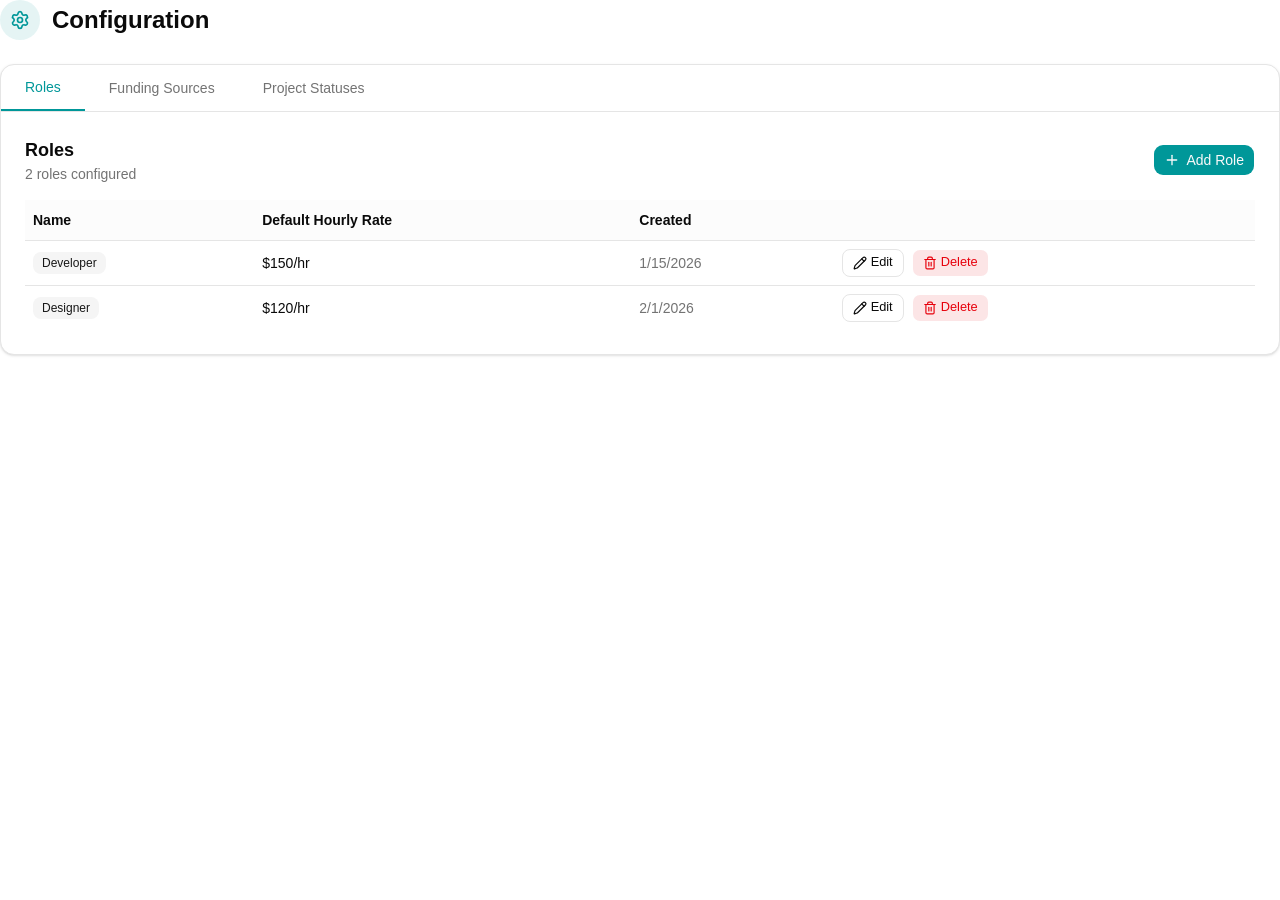
Test: ConfigurationPage › should open funding source creation form
Click the tab with test id "configuration-tab-funding-sources" at (162, 88), box left=85, top=65, right=239, bottom=111
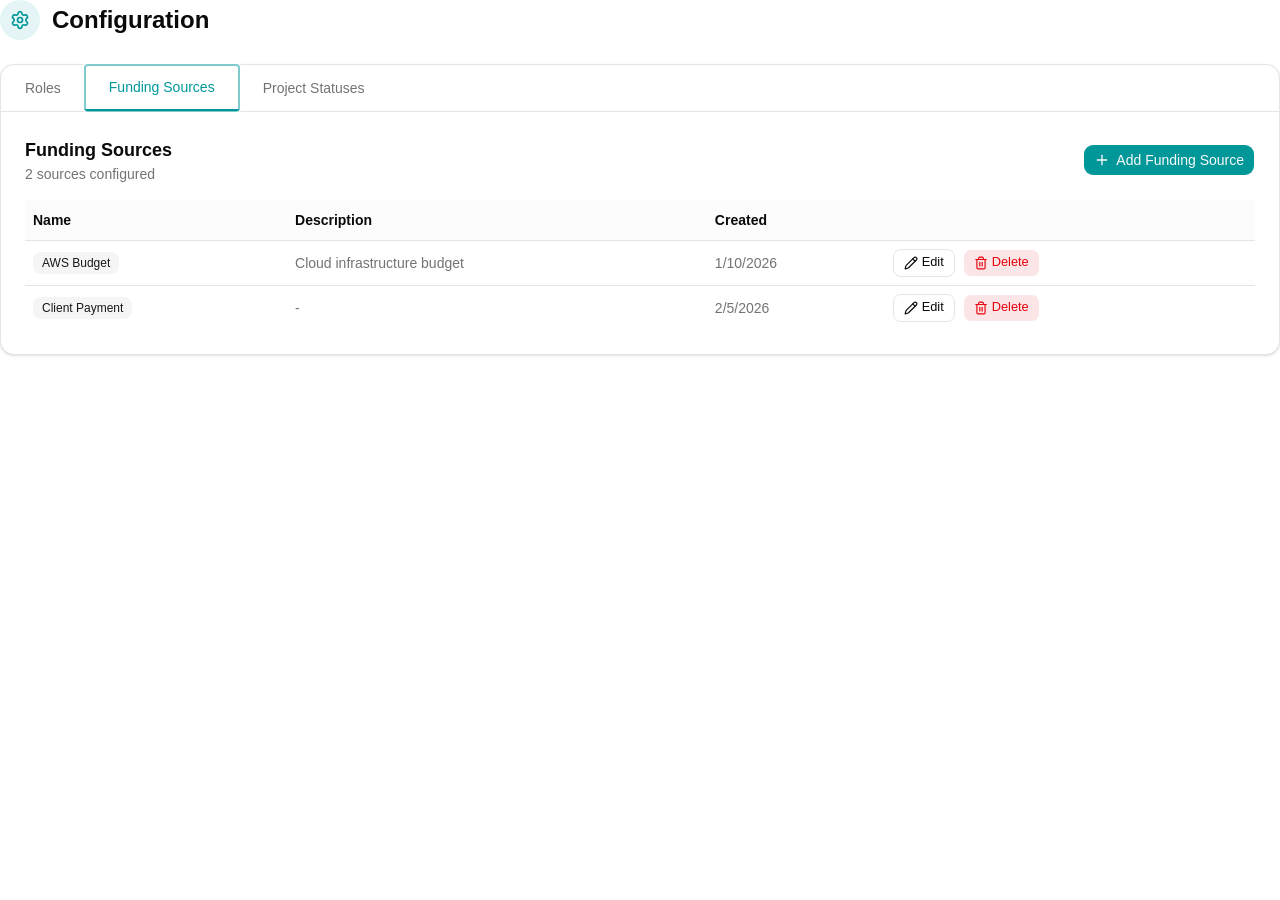
Expected: the button with test id "funding-source-create-button" is shown
Click the button with test id "funding-source-create-button" at (1169, 160), box left=1083, top=144, right=1255, bottom=176
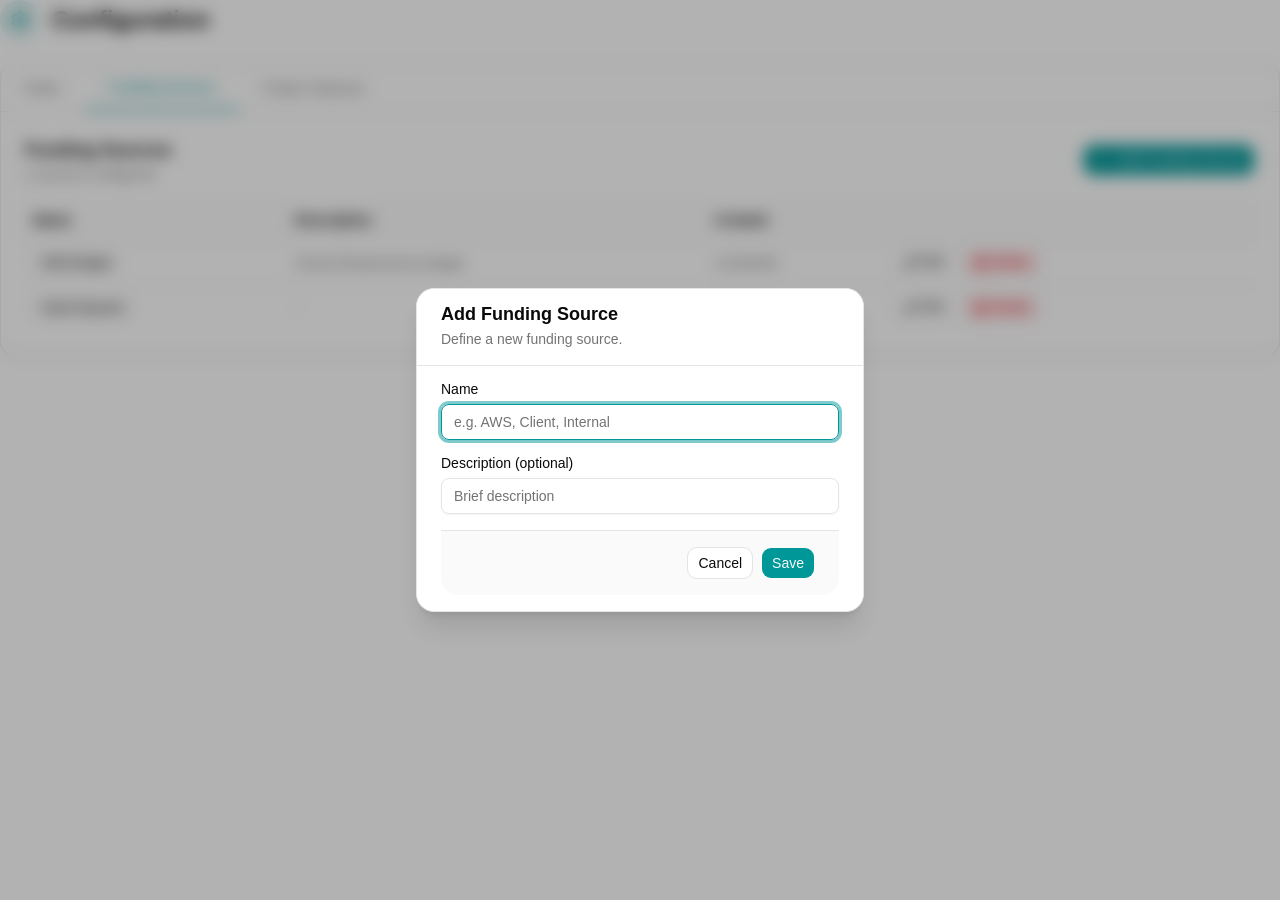
Expected: the heading with test id "funding-source-form-title" reads "Add Funding Source", left=441, top=304, right=618, bottom=324
Expected: the field with test id "funding-source-name-input" is shown, left=441, top=404, right=839, bottom=440
Expected: the field with test id "funding-source-description-input" is shown, left=441, top=478, right=839, bottom=514
